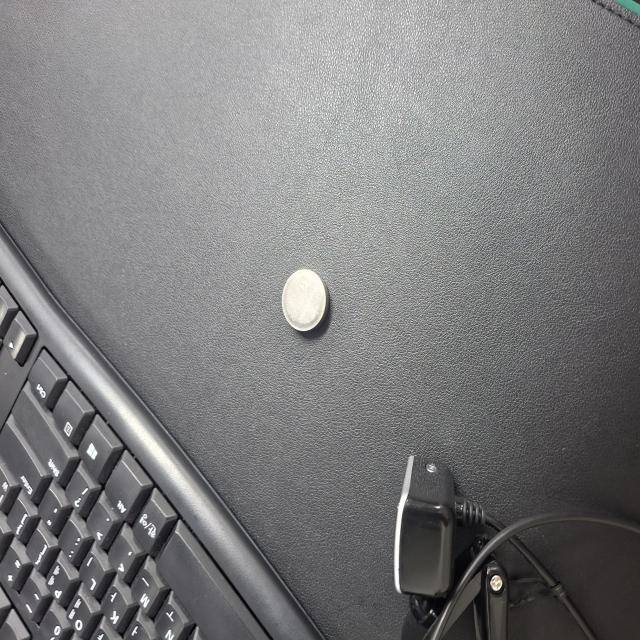COIN: (232, 376, 278, 437)
